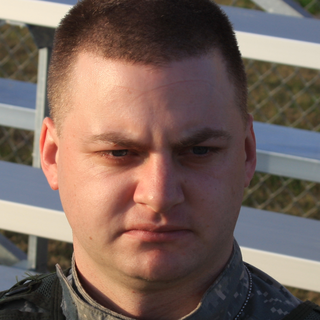eye: (95, 142, 144, 165), (182, 142, 221, 160)
